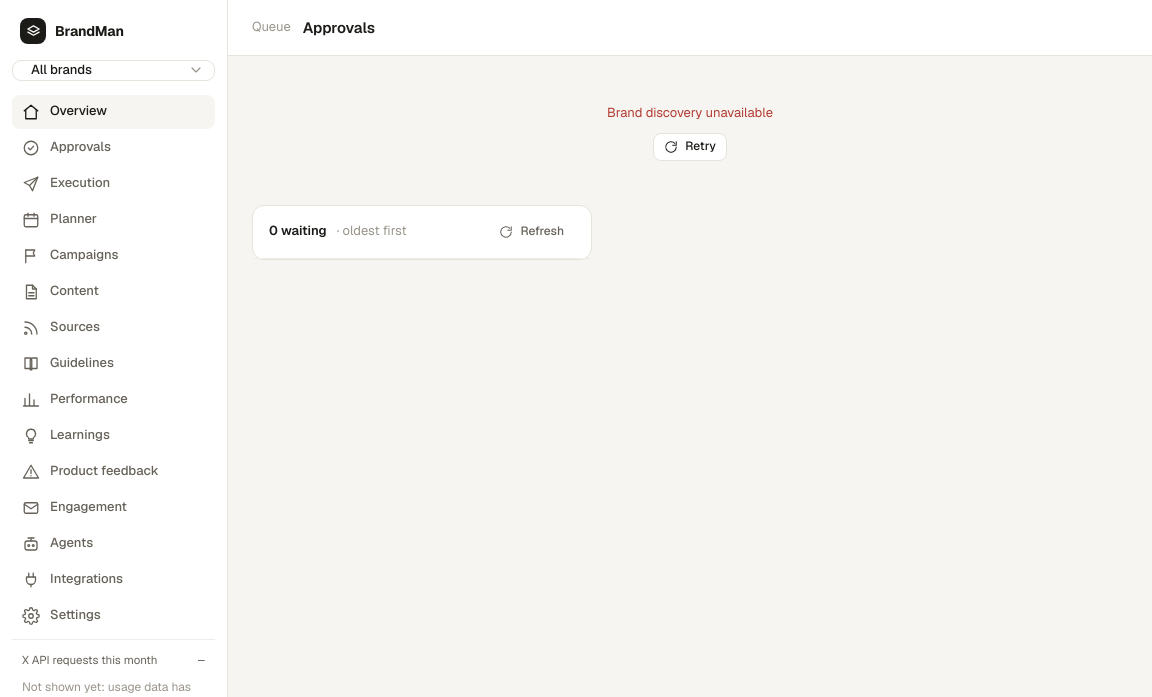
Test: dashboard loading isolation › surfaces brand-list failures instead of declaring the queue empty and retries discovery
Expected: the text "Brand discovery unavailable" is shown, [607,104,773,121]
Expected: the text "Nothing awaiting approval." is not shown
Click the button "Retry" at (690, 147), box [653,133,727,161]
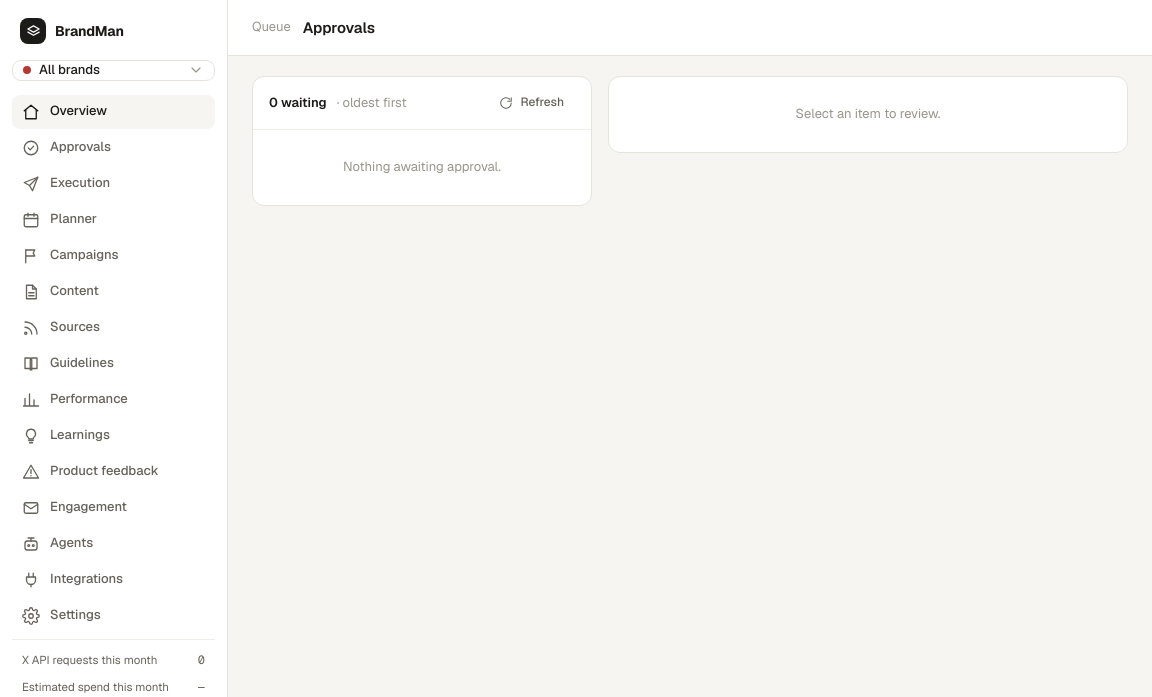
Expected: the text "Nothing awaiting approval." is shown, [343,158,501,175]
